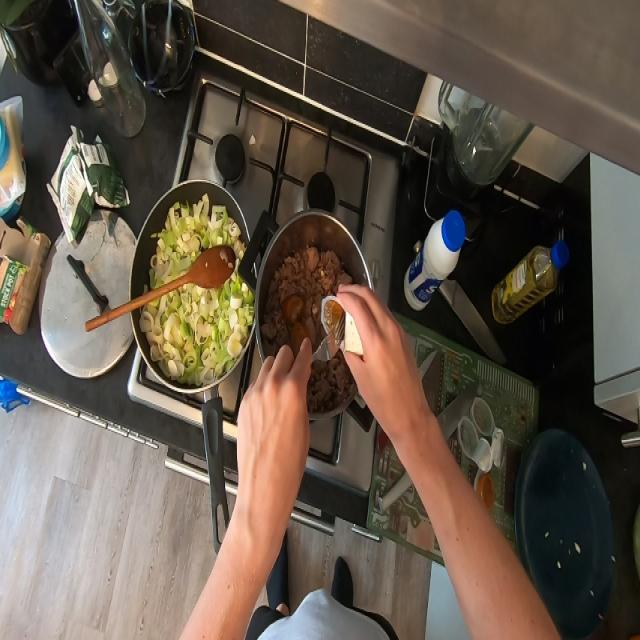hob: (200, 78, 288, 214)
left hand: (233, 338, 317, 564)
oil: (491, 237, 564, 331)
plate: (516, 424, 622, 639)
right hand: (344, 285, 426, 456)
salt: (404, 210, 464, 324)
wooden spoon: (84, 242, 234, 330)
